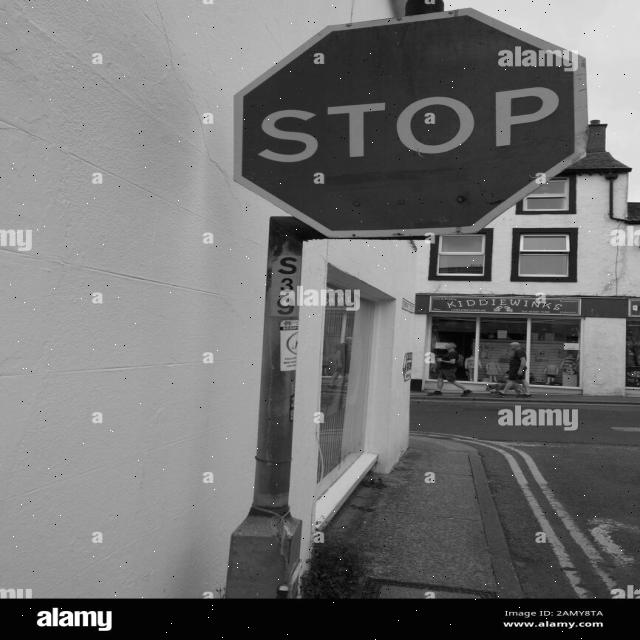Stop-sign: (208, 0, 639, 244)
